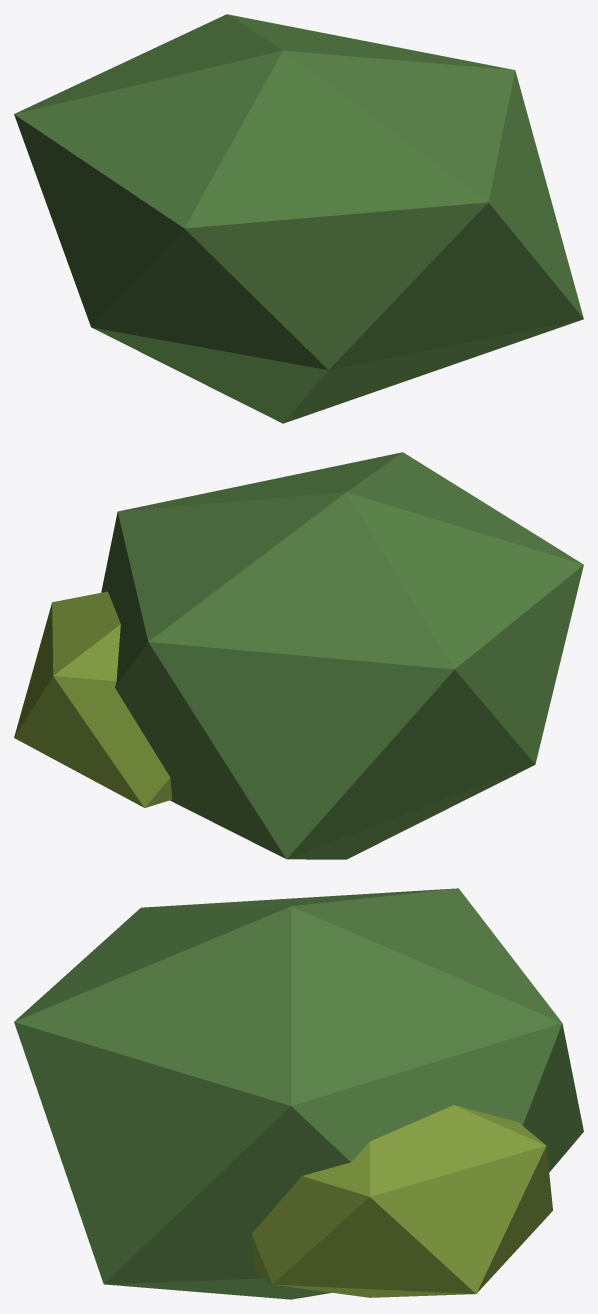
Rendered from buske_2.glb.
3 renders of one model, top to bottom at view 1: azimuth 30°, elevation 25°; view 2: azimuth 150°, elevation 25°; view 3: azimuth 270°, elevation 25°, orthographic. The views are drawn at different scales.
Visible parts, largest first — view 1: buske_2; view 2: buske_2; view 3: buske_2.
Part boxes in pixels (x1,y1,x2,y2): buske_2: [14, 14, 583, 423]; buske_2: [14, 452, 583, 859]; buske_2: [14, 888, 583, 1299].
Size of the model in its own units: 1.4 by 1.1 by 1.45.
